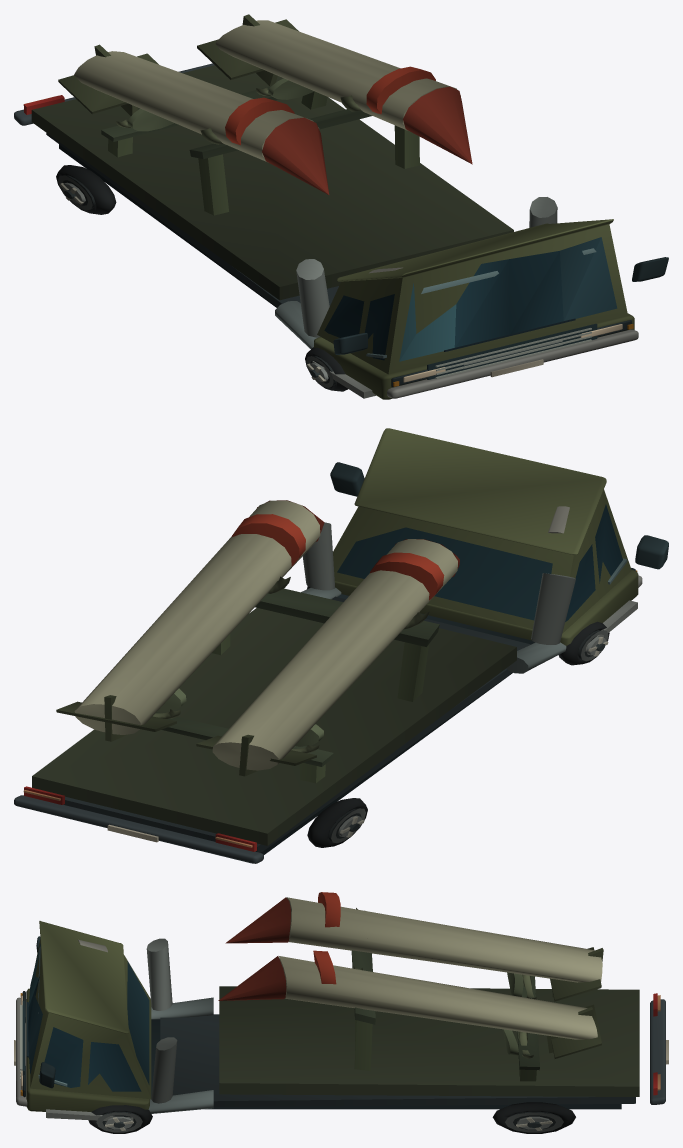
Rendered from missile.glb.
3 renders of one model, top to bottom at view 1: azimuth 30°, elevation 25°; view 2: azimuth 150°, elevation 25°; view 3: azimuth 270°, elevation 25°, orthographic. The views are drawn at different scales.
Parts seen in each view (by area): view 1: missile_body; view 2: missile_body; view 3: missile_body.
Part boxes in pixels (box(x1,y1,x2,y2)): missile_body: box(14, 14, 668, 399); missile_body: box(14, 428, 668, 863); missile_body: box(14, 892, 668, 1133).
Bounding box in the file's own units: 3.04 × 1.6 × 6.14.
